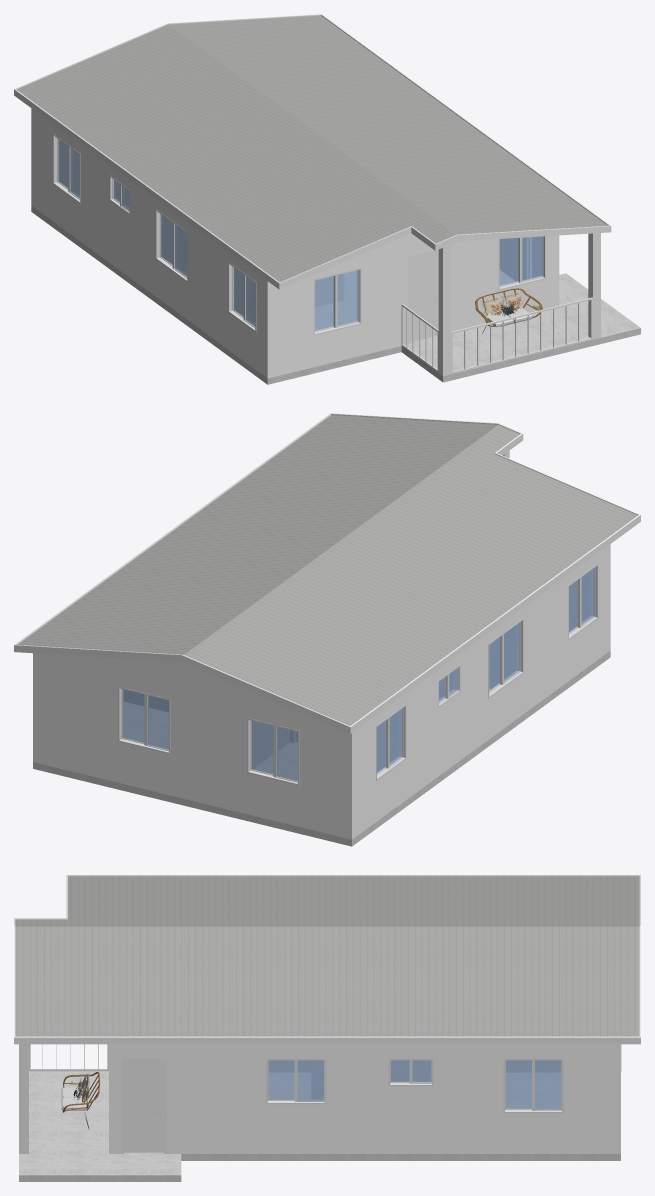
The model's file is house_1.glb.
3 views of the same model, one above another, from view 1: azimuth 30°, elevation 25°; view 2: azimuth 150°, elevation 25°; view 3: azimuth 270°, elevation 25° (orthographic). The views are drawn at different scales.
Visible parts, largest first — view 1: house_1; view 2: house_1; view 3: house_1.
Part boxes in pixels (x1,y1,x2,y2): house_1: (14, 14, 640, 384); house_1: (14, 413, 640, 846); house_1: (14, 875, 640, 1181).
Size of the model in its own units: 8.5 by 3.49 by 12.55.
13 materials, 6 textured.
